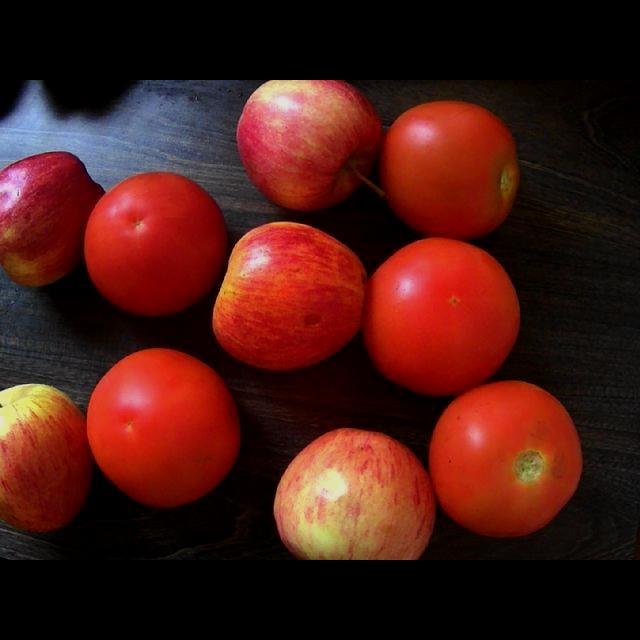manzana: (214, 222, 367, 370), (274, 428, 435, 559), (237, 80, 384, 210), (1, 152, 104, 286), (1, 384, 94, 532)
tomate: (362, 237, 520, 394), (88, 348, 240, 507), (430, 381, 582, 536), (85, 173, 227, 315), (380, 101, 520, 240)
